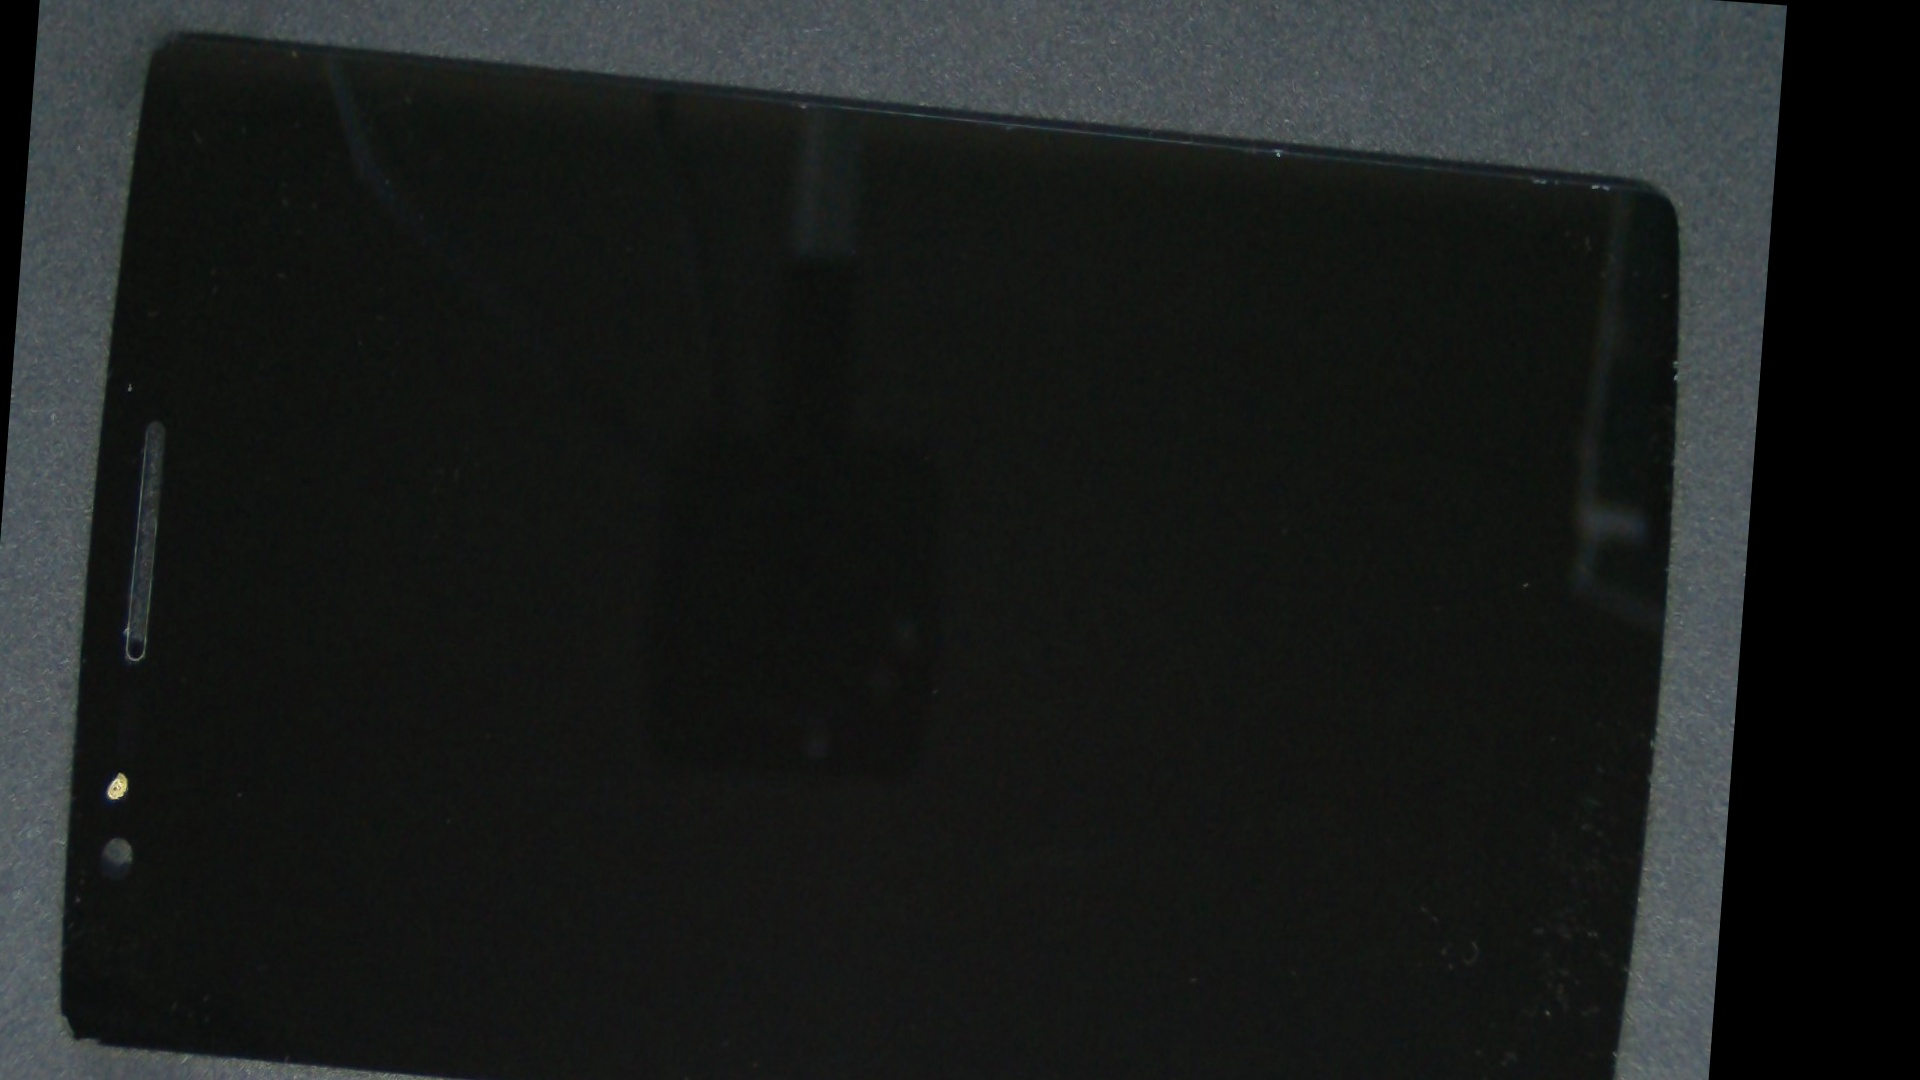oil: (25, 323, 216, 1080)
